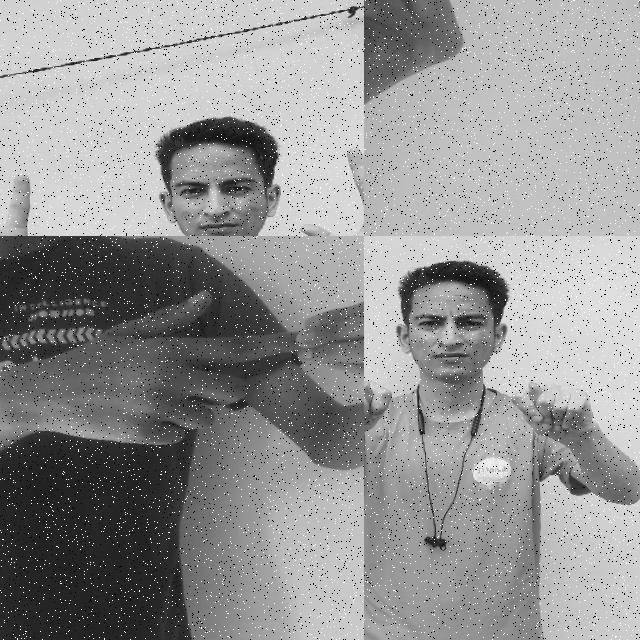Dulya: (364, 0, 474, 157), (501, 364, 606, 456), (364, 369, 399, 450)
Five Fathers: (17, 263, 364, 459)
Moutza: (284, 125, 364, 236), (0, 155, 101, 236)
